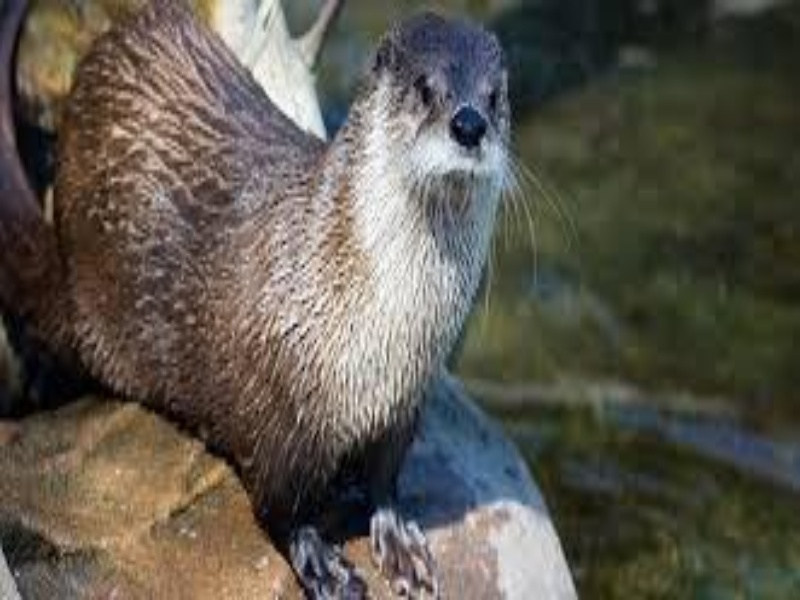minkish: (55, 4, 521, 597)
